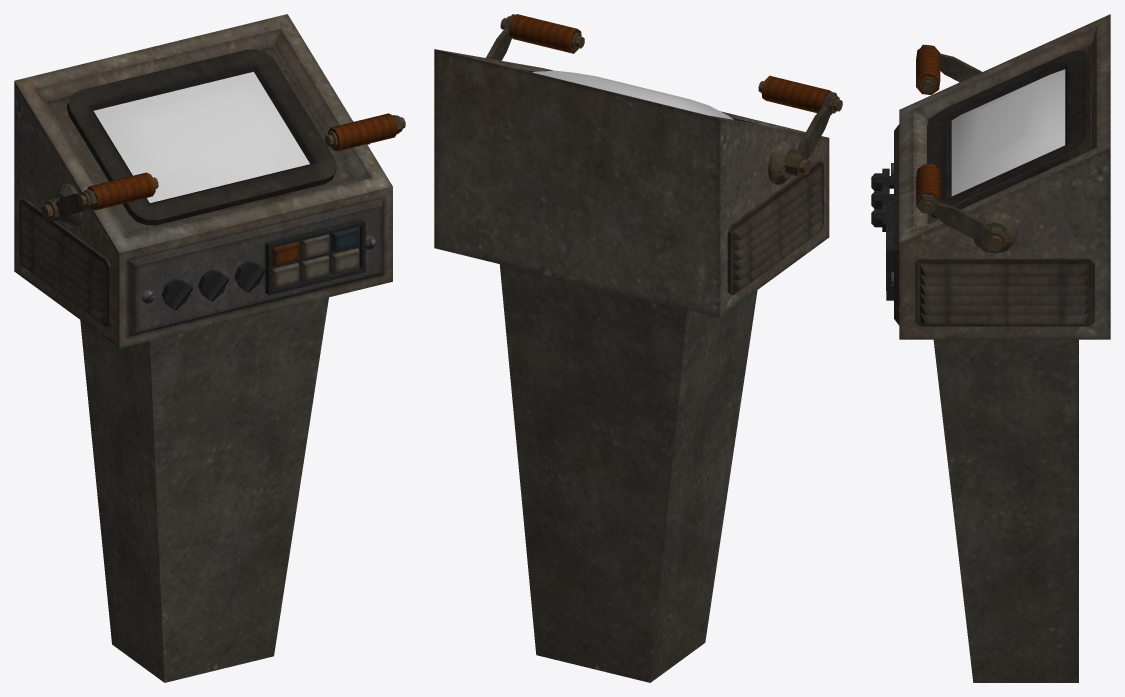
File: control_panel_etx_1.dae
3 views of the same model, side by side, from view 1: azimuth 30°, elevation 25°; view 2: azimuth 150°, elevation 25°; view 3: azimuth 270°, elevation 25° (orthographic). The views are drawn at different scales.
Visible parts, largest first — view 1: control_panel_etx_1, control_panel_etx_1_round_screen, control_panel_etx_1_knob_child; view 2: control_panel_etx_1, control_panel_etx_1_round_screen; view 3: control_panel_etx_1, control_panel_etx_1_round_screen, control_panel_etx_1_knob_child.
Boxes of the visible parts, <box> form: control_panel_etx_1: <box>14,14,405,682</box>; control_panel_etx_1_round_screen: <box>93,71,309,202</box>; control_panel_etx_1_knob_child: <box>161,278,192,310</box>; control_panel_etx_1: <box>434,14,842,682</box>; control_panel_etx_1_round_screen: <box>532,70,733,119</box>; control_panel_etx_1: <box>871,14,1110,682</box>; control_panel_etx_1_round_screen: <box>951,69,1065,196</box>; control_panel_etx_1_knob_child: <box>871,168,893,190</box>.
Size of the model in its own units: 0.711 by 0.4485 by 1.19.
